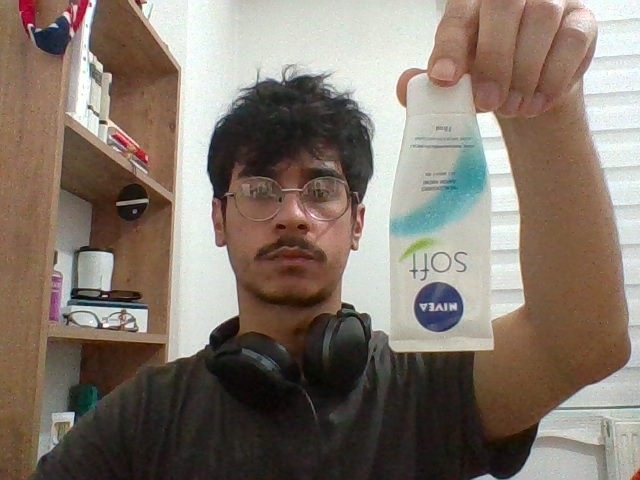NiveaSoft: (392, 79, 496, 352)
